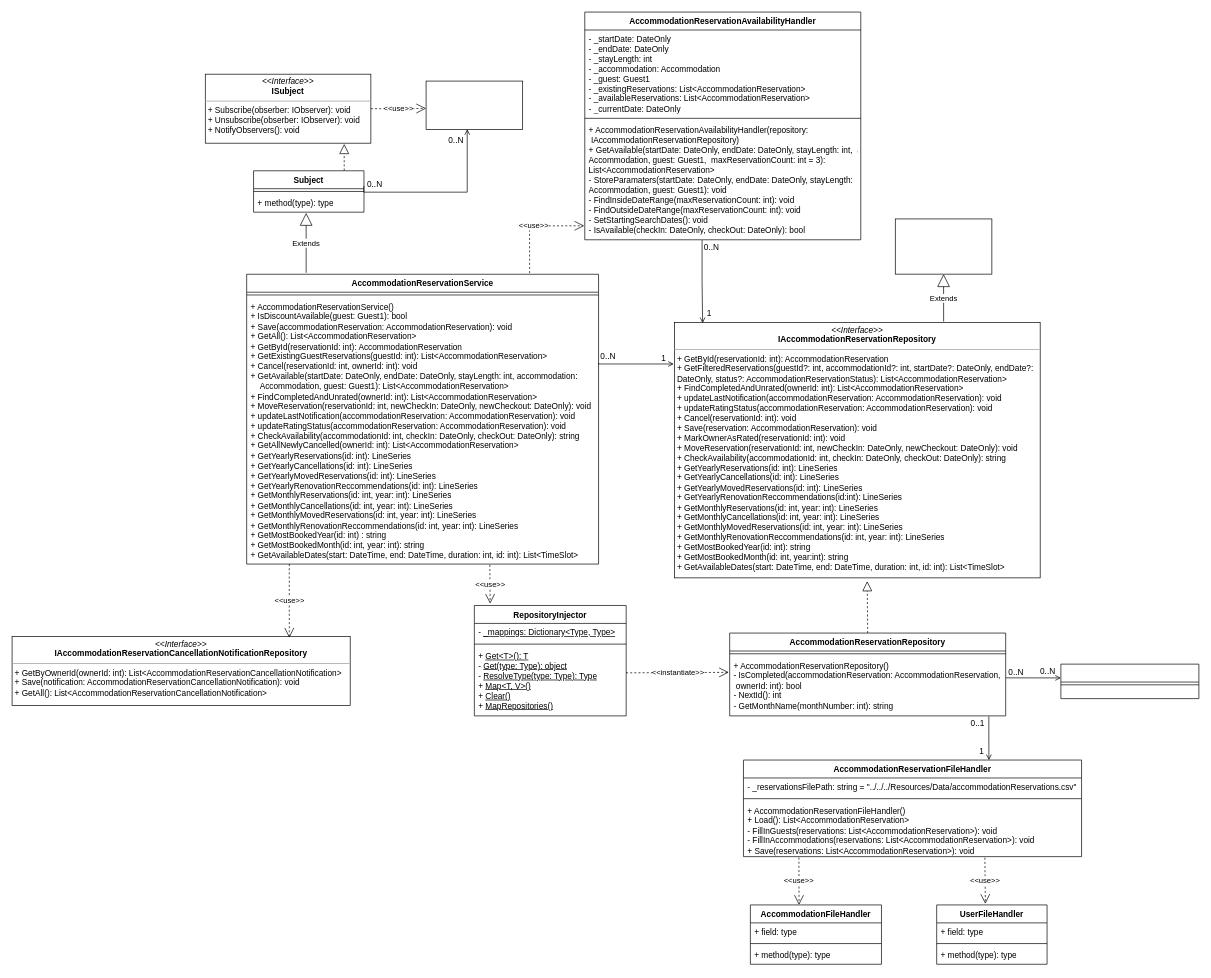
Some shapes in this 1211 by 978 pixel diagram are drawn without their labels. The shapes that lost their labels are listed below. From the top down, each one's centre as x and y in pixels, then its label:
At (474,104): "<<Interface>> IObserver + Update(): void".
At (943,246): "<<Interface>> IRepository<T> + GetAll(): List<T>".
At (1129,681): "AccommodationReservation".
